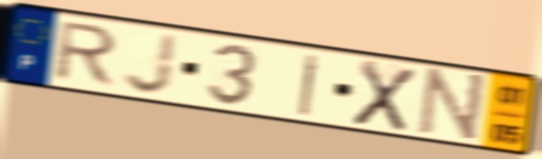3: (201, 42, 262, 108)
I: (296, 51, 323, 119)
J: (121, 31, 181, 97)
N: (414, 66, 490, 146)
R: (49, 19, 122, 89)
X: (349, 57, 419, 135)
